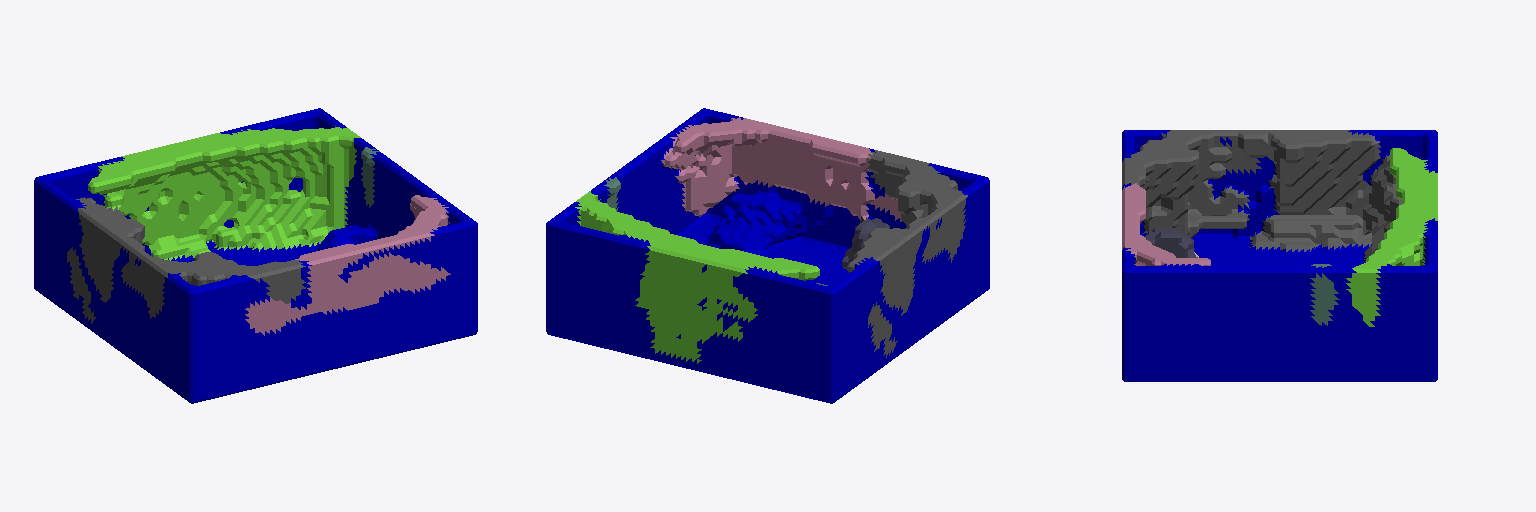
3 views of the same model, side by side, from view 1: azimuth 30°, elevation 25°; view 2: azimuth 150°, elevation 25°; view 3: azimuth 270°, elevation 25° (orthographic).
Visible parts, largest first — view 1: Input_prediction_mesh; view 2: Input_prediction_mesh; view 3: Input_prediction_mesh.
Part boxes in pixels (x1,y1,x2,y2): Input_prediction_mesh: (34, 108, 477, 403); Input_prediction_mesh: (546, 108, 989, 403); Input_prediction_mesh: (1122, 130, 1437, 381).
Size of the model in its own units: 4.48 by 1.68 by 4.24.